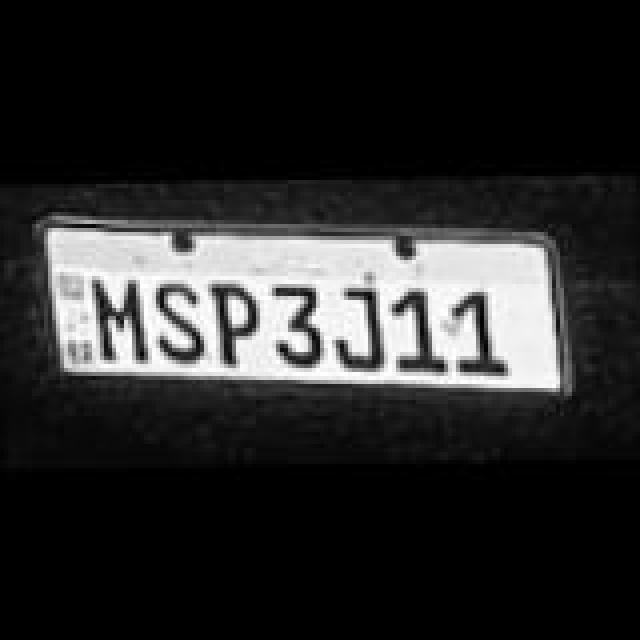1: (452, 290, 508, 378), (388, 288, 444, 372)
3: (268, 282, 324, 366)
J: (334, 286, 386, 370)
M: (92, 272, 148, 360)
P: (210, 280, 262, 364)
S: (150, 276, 210, 360)
